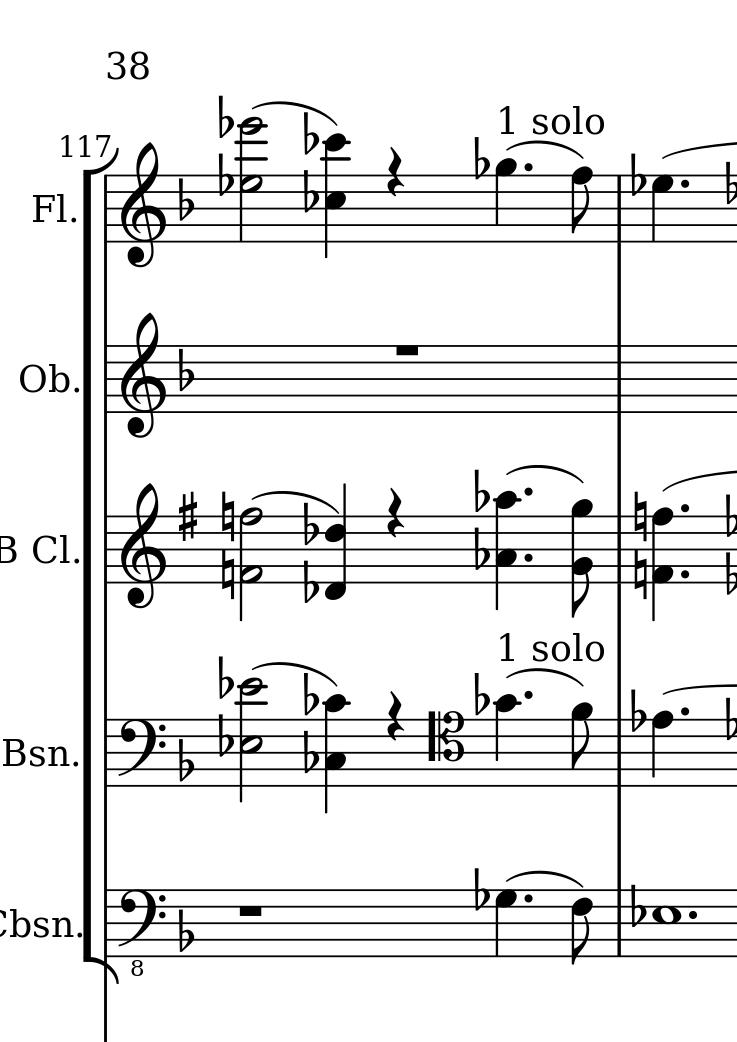1: (77, 132, 91, 159), (60, 132, 73, 158)
2_1_8: (238, 506, 263, 623)
2_5_12: (235, 677, 265, 805)
2_7_14: (235, 115, 270, 245)
3: (106, 49, 128, 83)
4_-1_6: (324, 484, 349, 601)
4_10: (492, 690, 521, 791)
4_1_8: (650, 506, 675, 624)
4_3_10: (492, 489, 521, 613), (322, 693, 350, 813)
4_5_12: (320, 131, 353, 258)
4_7: (494, 887, 522, 960), (650, 174, 677, 245)
4_8: (651, 709, 675, 790)
4_9: (494, 157, 520, 247)
7: (94, 133, 112, 158)
8: (129, 48, 152, 83)
8_2_9: (570, 498, 593, 620)
8_6: (569, 886, 596, 967)
8_8: (570, 165, 596, 245)
8_9: (570, 701, 596, 790)
Bracke: (79, 147, 118, 983)
Bsn: (1, 730, 65, 778)
Cl: (29, 526, 76, 573)
Fclef: (117, 717, 166, 792)
Fl: (27, 189, 69, 229)
Flat: (175, 907, 199, 954), (175, 347, 197, 397), (213, 713, 235, 762), (300, 166, 321, 217), (471, 464, 493, 512), (471, 134, 492, 183), (175, 734, 195, 783), (175, 176, 195, 224), (217, 648, 235, 701), (301, 559, 321, 606), (627, 882, 648, 926), (216, 153, 236, 198), (300, 673, 320, 718), (299, 107, 318, 154), (217, 93, 237, 137), (471, 867, 490, 913), (301, 730, 320, 775), (630, 686, 646, 738), (473, 672, 490, 720), (720, 697, 737, 744), (472, 527, 490, 571), (301, 500, 317, 548), (723, 487, 737, 541), (629, 154, 644, 197), (727, 552, 737, 603)
Gclef: (117, 481, 172, 615), (118, 142, 168, 273), (121, 312, 166, 444)
Lower_Fclef: (113, 888, 170, 978)
Natural: (219, 551, 238, 604), (633, 488, 650, 541), (219, 489, 236, 541), (633, 551, 649, 602)
Ob: (17, 358, 70, 402)
Rests1: (392, 343, 424, 360), (235, 901, 262, 920)
Rests4: (383, 691, 406, 744), (385, 143, 406, 201), (386, 484, 405, 540)
Sharp: (178, 491, 199, 544)
Single_barline: (609, 890, 628, 957), (98, 890, 116, 957), (609, 346, 627, 412), (99, 176, 117, 241), (610, 721, 628, 786), (610, 177, 628, 241), (99, 346, 116, 413), (99, 516, 116, 582), (99, 719, 115, 786), (611, 515, 626, 582)
Slur: (253, 661, 340, 690), (252, 97, 340, 125), (251, 488, 339, 515), (505, 139, 590, 161), (507, 464, 588, 485), (508, 667, 585, 689), (505, 870, 588, 889)
Solo: (531, 631, 607, 667), (532, 104, 609, 139)
Tensor_Cclef: (426, 709, 467, 788)
dot: (676, 177, 692, 192), (523, 551, 537, 568), (676, 502, 692, 516), (679, 567, 693, 583), (520, 485, 537, 498), (520, 161, 535, 175), (678, 705, 692, 720), (521, 892, 535, 905), (520, 689, 533, 701), (686, 910, 698, 921)
p: (652, 888, 684, 958)
